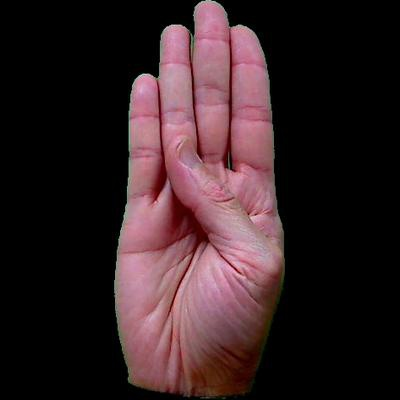b: (6, 1, 400, 400)
